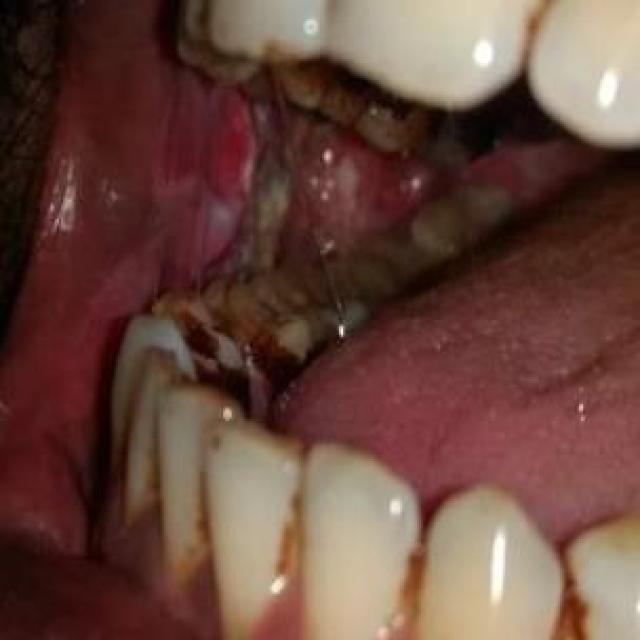cancer-detection: (170, 72, 526, 309)
processing_area: (8, 5, 638, 543)
